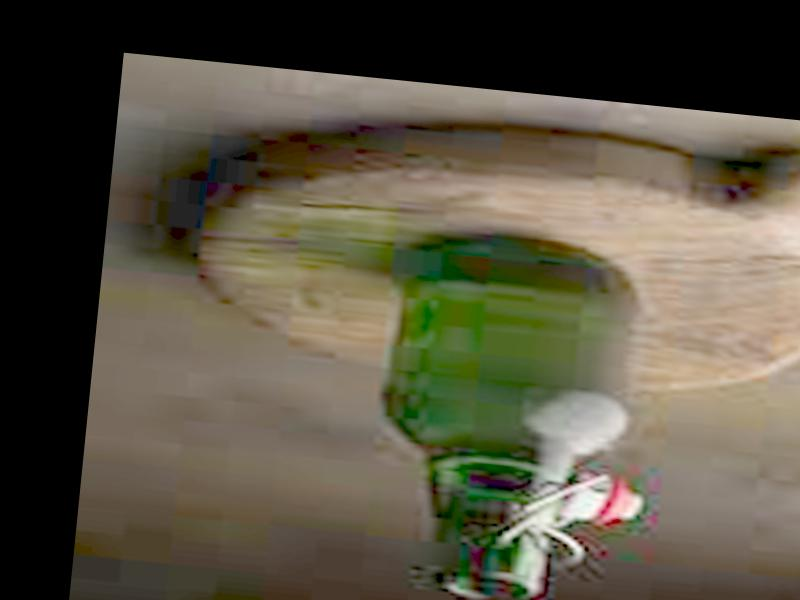Beer: (372, 234, 641, 600)
